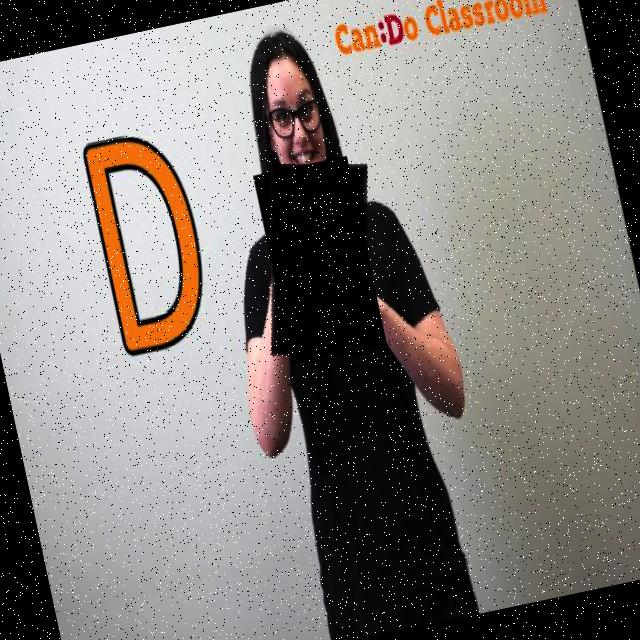D: (244, 152, 397, 371)
